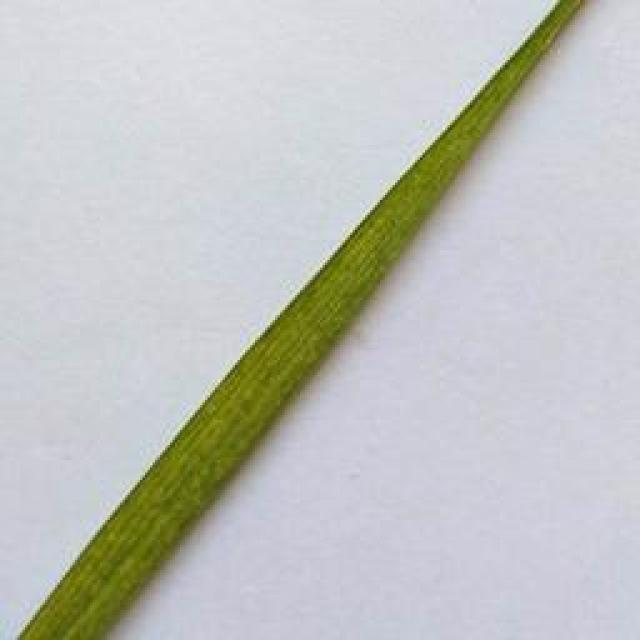Healthy-Plant: (17, 0, 584, 640)
